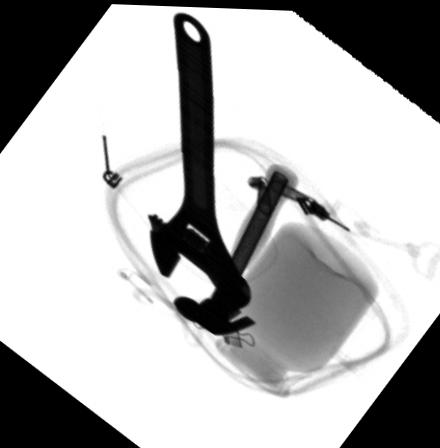Hammer: (172, 161, 299, 334)
Wrench: (148, 9, 251, 313)
